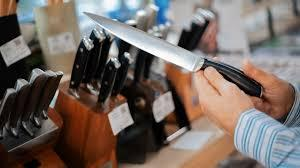Knife: (82, 10, 263, 98)
